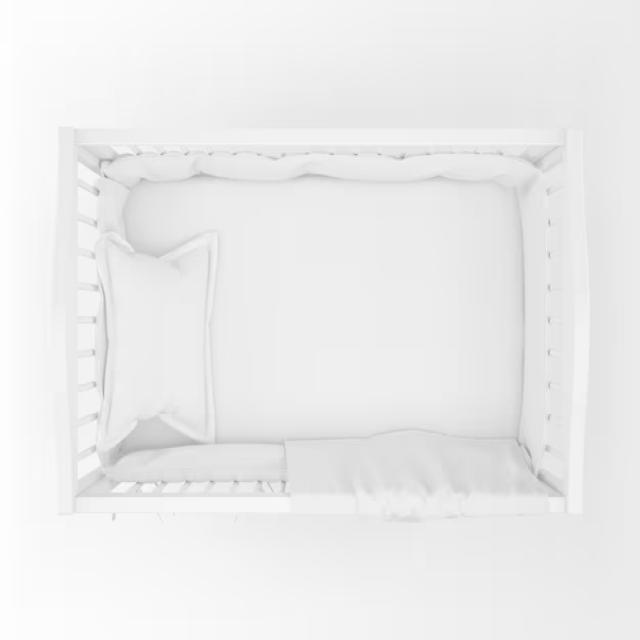crib: (66, 140, 577, 500)
